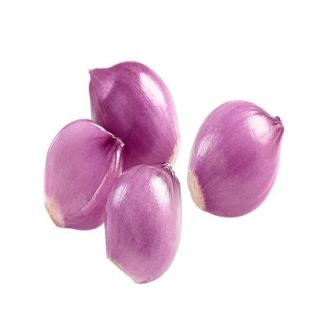Bawang Merah: (41, 58, 186, 288), (185, 98, 289, 221)
